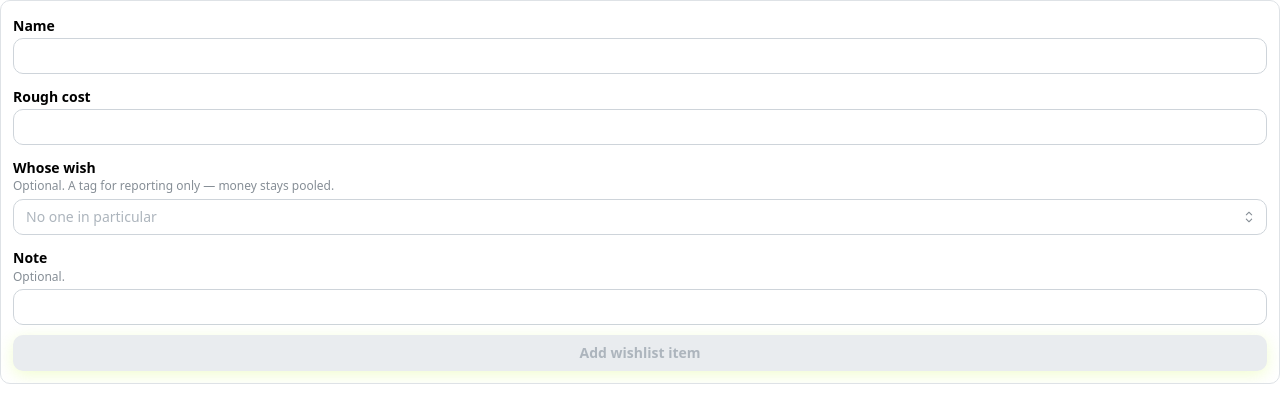
Scenario: WishlistForm › disables submit until a name and a positive amount are entered
expect the button "Add wishlist item" is disabled: met, box [13,335,1267,371]
Type "Something" into the field labelled "Name". click: (640, 56)
box: [13,38,1267,74]
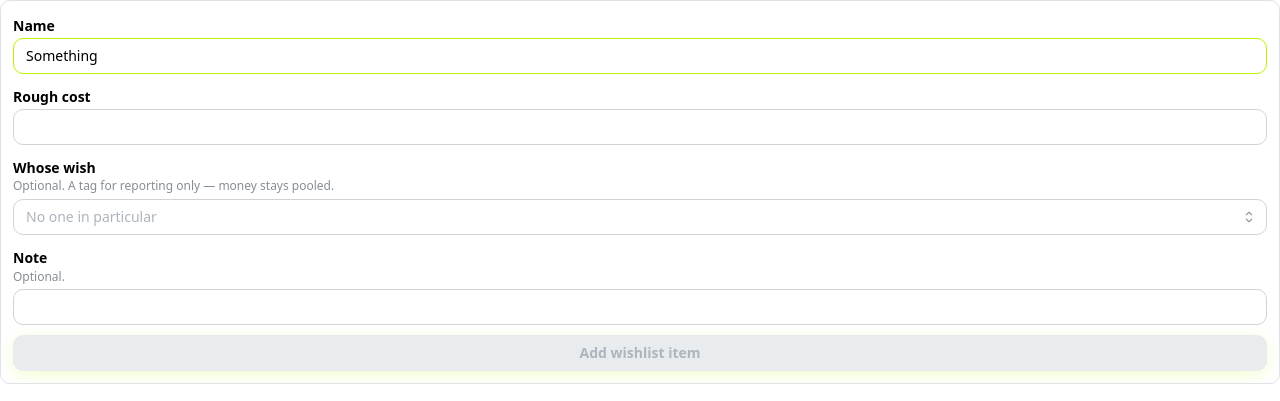
expect the button "Add wishlist item" is disabled: met, box [13,335,1267,371]
Type "50" into the field labelled "Rough cost". click: (640, 127)
box: [13,109,1267,145]
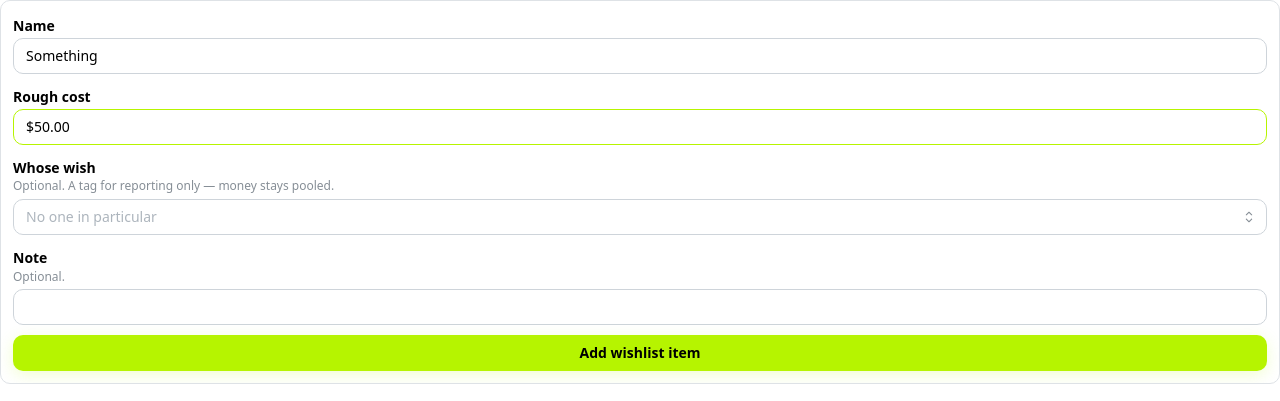
expect the button "Add wishlist item" is enabled: met, box [13,335,1267,371]
